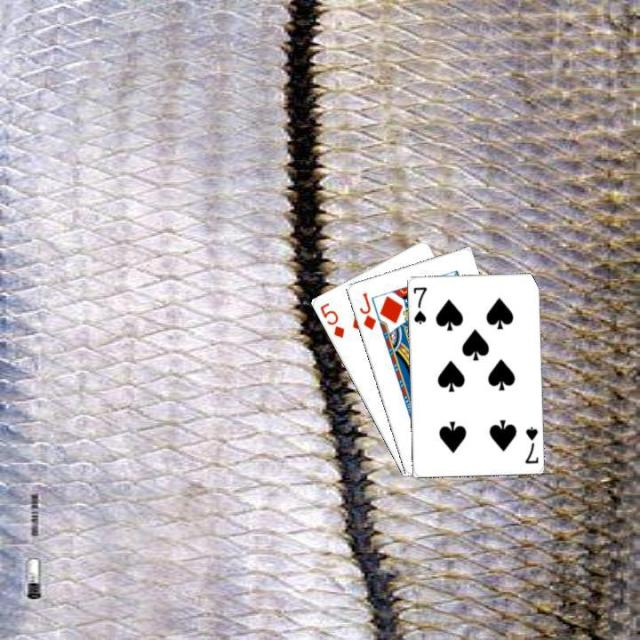5D: (316, 298, 346, 339)
7S: (409, 283, 428, 325), (521, 422, 539, 465)
JD: (356, 289, 378, 331)
